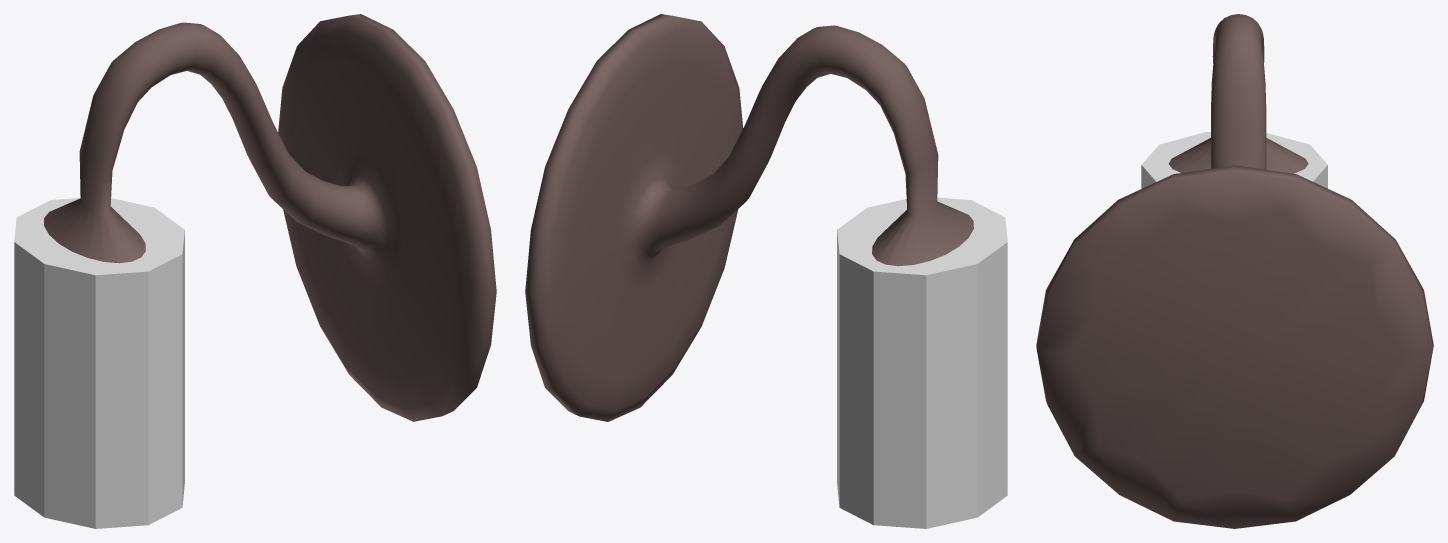
Rendered from Lamp_pared.fbx.
3 views of the same model, side by side, from view 1: azimuth 30°, elevation 25°; view 2: azimuth 150°, elevation 25°; view 3: azimuth 270°, elevation 25° (orthographic). The views are drawn at different scales.
Parts seen in each view (by area): view 1: Cylinder.001; view 2: Cylinder.001; view 3: Cylinder.001.
Part boxes in pixels (x1,y1,x2,y2): Cylinder.001: [14, 14, 496, 528]; Cylinder.001: [525, 14, 1007, 528]; Cylinder.001: [1036, 14, 1433, 528].
Bounding box in the file's own units: 26.75 × 29.72 × 25.41.
